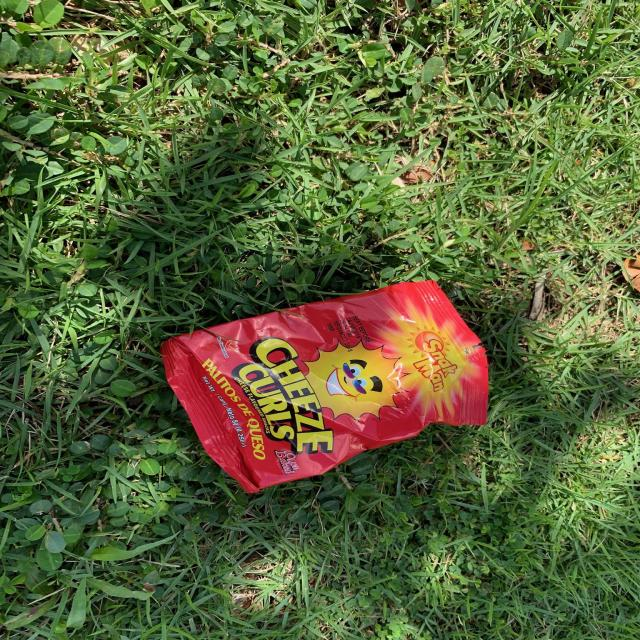litter: (161, 279, 491, 493)
